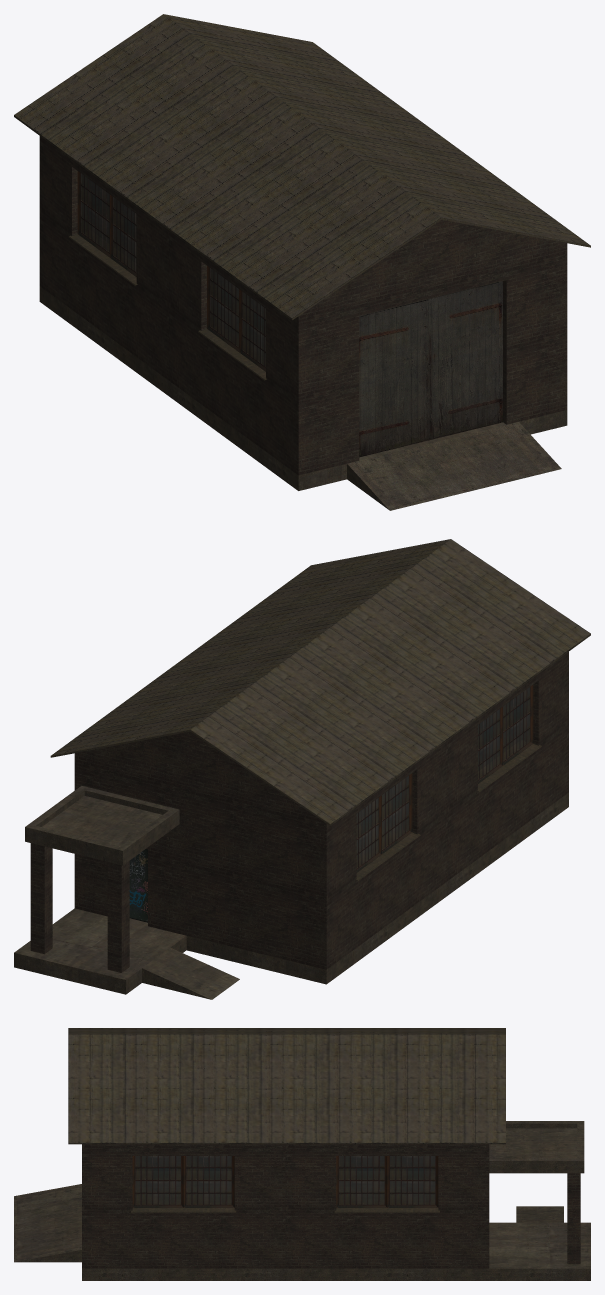
File: warehouse_mx_2.obj
3 renders of one model, top to bottom at view 1: azimuth 30°, elevation 25°; view 2: azimuth 150°, elevation 25°; view 3: azimuth 270°, elevation 25°, orthographic. The views are drawn at different scales.
Parts seen in each view (by area): view 1: warehouse_mx_2, garage_door_hr_3_piece_2, garage_door_hr_3_piece_1; view 2: warehouse_mx_2, door_hr_9; view 3: warehouse_mx_2.
Part boxes in pixels (x1,y1,x2,y2): warehouse_mx_2: (14,14,590,510); garage_door_hr_3_piece_2: (429,281,502,439); garage_door_hr_3_piece_1: (359,299,429,457); warehouse_mx_2: (14,539,590,999); door_hr_9: (129,849,147,922); warehouse_mx_2: (14,1028,590,1280).
Bounding box in the file's own units: 8 × 6.32 × 17.
